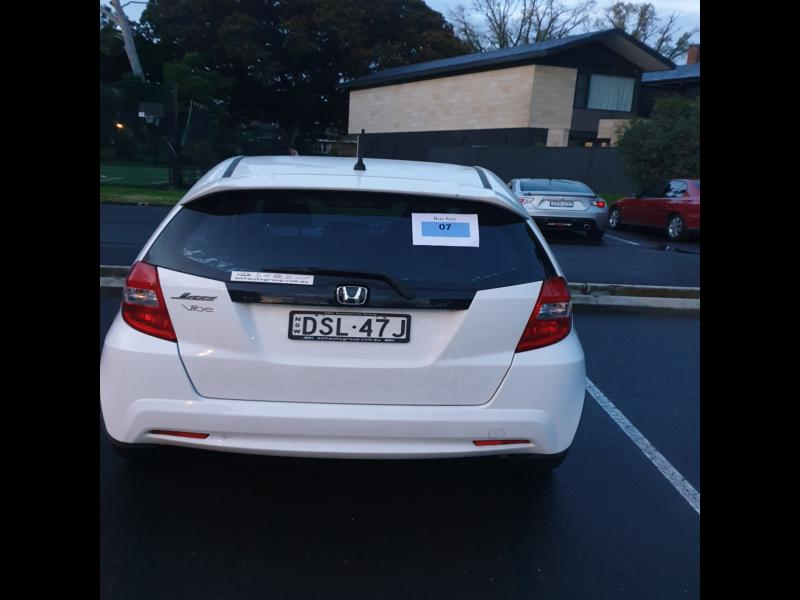BusRun: (423, 221, 469, 237)
PlateNo: (292, 312, 410, 341)
